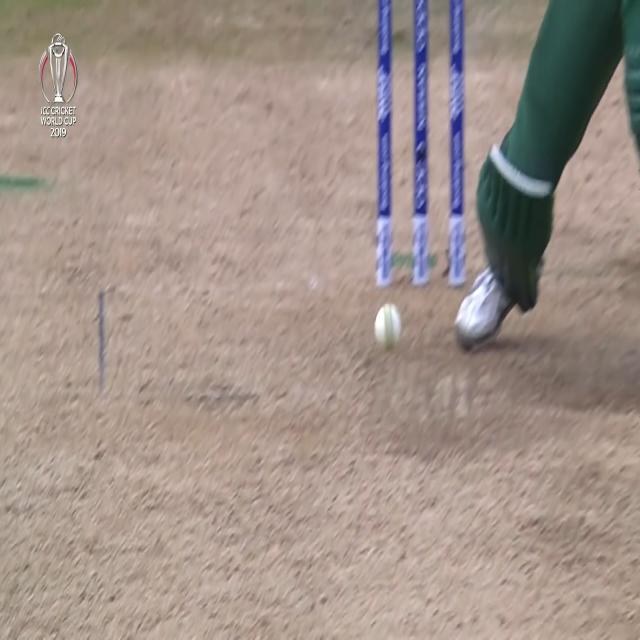Cricket ball: (373, 301, 402, 353)
